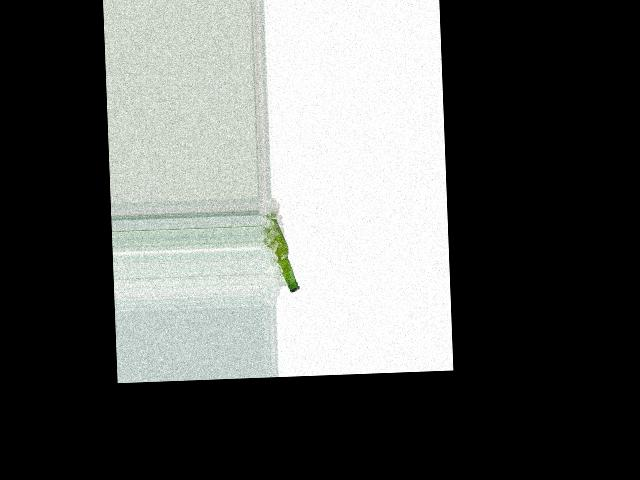beer: (268, 212, 299, 294)
